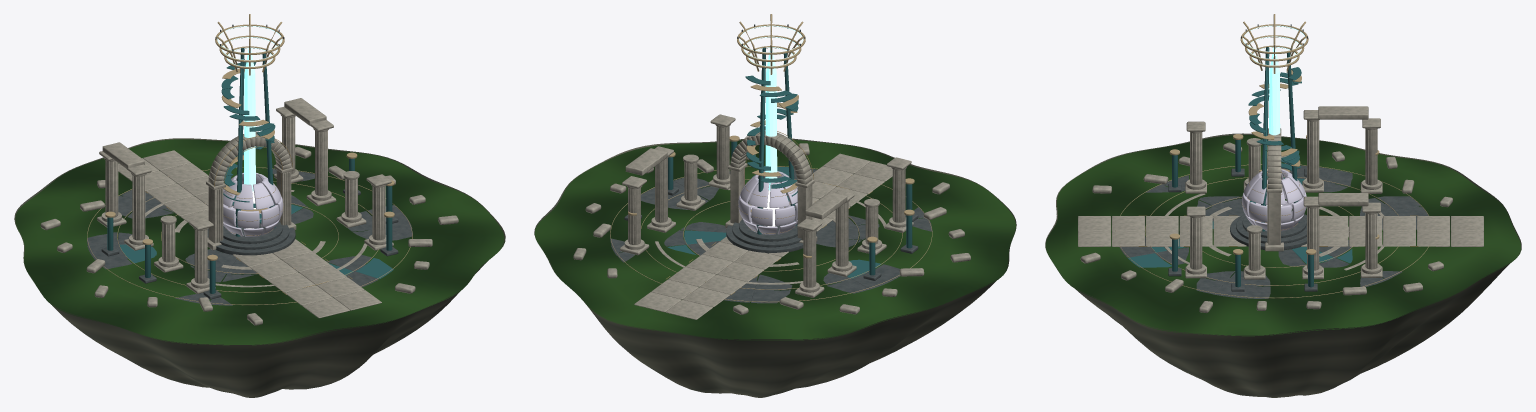
Rendered from sky-sea.glb.
The picture shows the model from 3 angles, left to right: view 1: azimuth 30°, elevation 25°; view 2: azimuth 150°, elevation 25°; view 3: azimuth 270°, elevation 25°; orthographic projection. The views are drawn at different scales.
Parts seen in each view (by area): view 1: SkyIsland__Sky_jade, SkyIsland__Limestone, SkyIsland__Sky_sediment, SeaSanctum__Basalt, SkyArch__Limestone, SeaTower__Sea_patina, SeaSanctum__Sea_patina, SeaTower__Sea_champagne, SeaTower__Basalt, SeaTower__Sea_heart, SeaSanctum__Sea_champagne; view 2: SkyIsland__Sky_jade, SkyIsland__Limestone, SkyIsland__Sky_sediment, SeaSanctum__Basalt, SkyArch__Limestone, SeaTower__Sea_patina, SeaTower__Sea_champagne, SeaSanctum__Sea_patina, SeaTower__Basalt, SeaTower__Sea_heart, SeaSanctum__Sea_champagne; view 3: SkyIsland__Sky_jade, SkyIsland__Limestone, SkyIsland__Sky_sediment, SeaSanctum__Basalt, SeaTower__Sea_patina, SeaSanctum__Sea_patina, SeaTower__Sea_champagne, SkyArch__Limestone, SeaSanctum__Sea_champagne, SeaTower__Basalt, SeaTower__Sea_heart.
Part boxes in pixels (bbox=[...]): SkyIsland__Sky_jade: bbox=[14, 139, 505, 345]; SkyIsland__Limestone: bbox=[40, 98, 458, 325]; SkyIsland__Sky_sediment: bbox=[14, 138, 505, 397]; SeaSanctum__Basalt: bbox=[87, 169, 412, 305]; SkyArch__Limestone: bbox=[206, 132, 296, 250]; SeaTower__Sea_patina: bbox=[221, 48, 275, 236]; SeaSanctum__Sea_patina: bbox=[107, 158, 393, 293]; SeaTower__Sea_champagne: bbox=[215, 14, 284, 213]; SeaTower__Basalt: bbox=[207, 24, 295, 255]; SeaTower__Sea_heart: bbox=[217, 26, 281, 191]; SeaSanctum__Sea_champagne: bbox=[87, 152, 412, 305]; SkyIsland__Sky_jade: bbox=[534, 139, 1016, 340]; SkyIsland__Limestone: bbox=[573, 114, 970, 319]; SkyIsland__Sky_sediment: bbox=[534, 138, 1016, 397]; SeaSanctum__Basalt: bbox=[610, 168, 932, 303]; SkyArch__Limestone: bbox=[725, 131, 817, 243]; SeaTower__Sea_patina: bbox=[745, 47, 798, 234]; SeaTower__Sea_champagne: bbox=[737, 14, 805, 211]; SeaSanctum__Sea_patina: bbox=[667, 141, 912, 278]; SeaTower__Basalt: bbox=[726, 24, 816, 253]; SeaTower__Sea_heart: bbox=[739, 25, 803, 190]; SeaSanctum__Sea_champagne: bbox=[610, 135, 932, 302]; SkyIsland__Sky_jade: bbox=[1045, 134, 1521, 336]; SkyIsland__Limestone: bbox=[1078, 106, 1483, 312]; SkyIsland__Sky_sediment: bbox=[1045, 133, 1521, 397]; SeaSanctum__Basalt: bbox=[1119, 165, 1428, 298]; SeaTower__Sea_patina: bbox=[1248, 47, 1301, 231]; SeaSanctum__Sea_patina: bbox=[1128, 139, 1352, 287]; SeaTower__Sea_champagne: bbox=[1240, 14, 1308, 223]; SkyArch__Limestone: bbox=[1265, 128, 1283, 251]; SeaSanctum__Sea_champagne: bbox=[1120, 134, 1428, 298]; SeaTower__Basalt: bbox=[1230, 24, 1307, 249]; SeaTower__Sea_heart: bbox=[1243, 25, 1305, 135].
Bounding box in the file's own units: 36.02 × 28.93 × 35.85.
10 materials, 2 textured.
